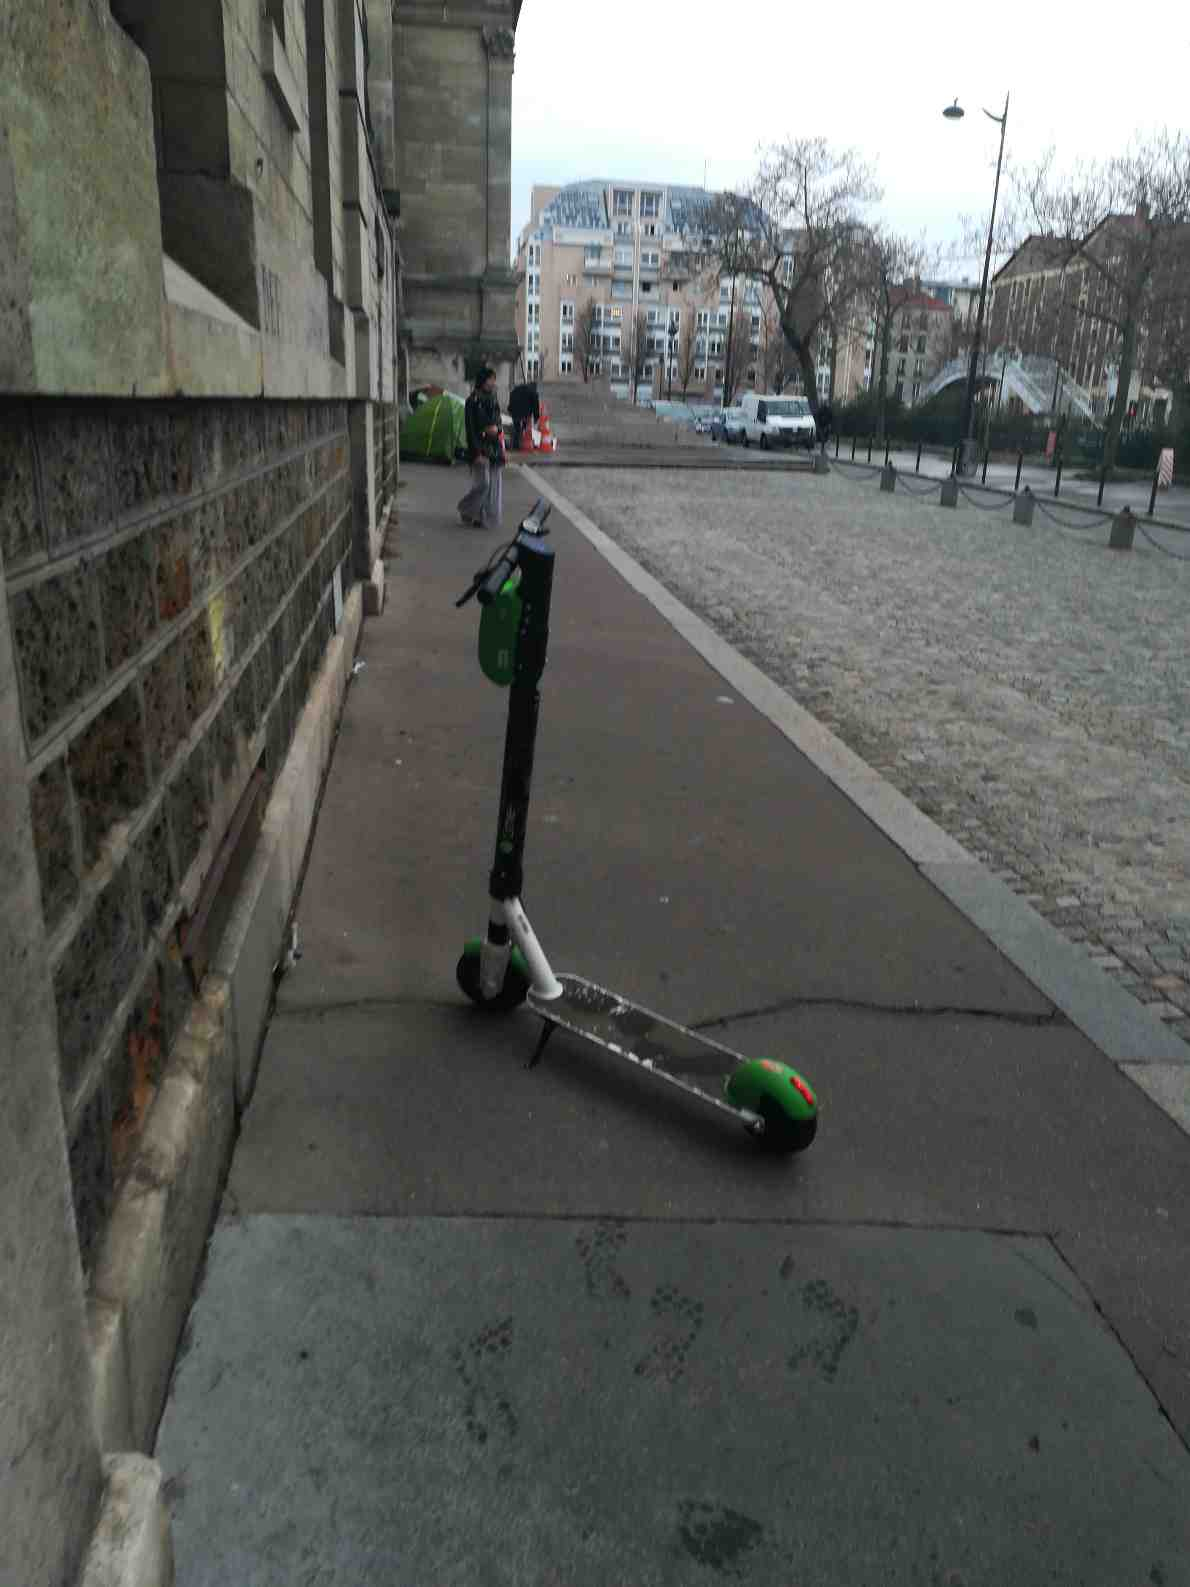scooter: (406, 460, 836, 1186)
